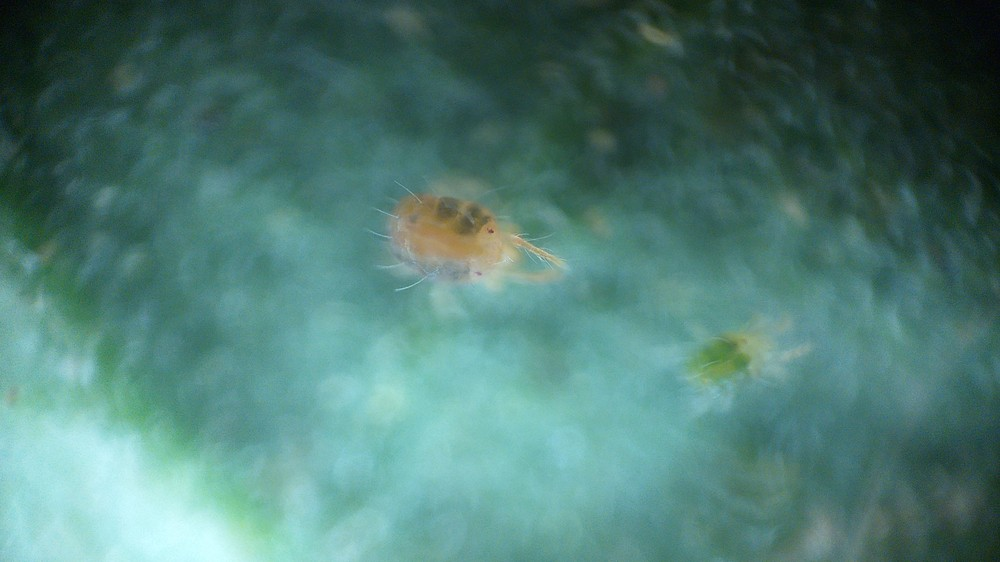Aracnido Rojo: (328, 156, 552, 307), (656, 296, 813, 409)
